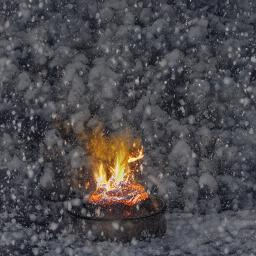Small fire: (80, 122, 154, 216)
